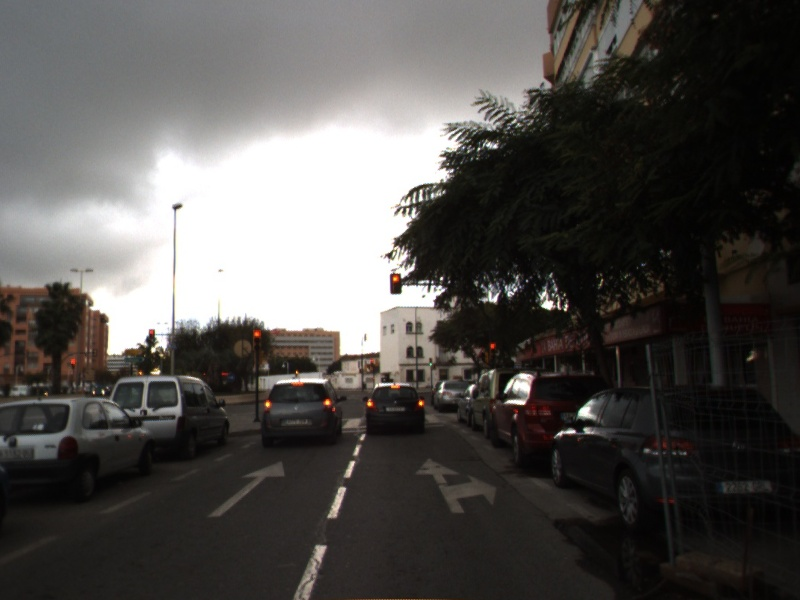STRAIGHT: (206, 459, 286, 518)
STRAIGHT_RIGHT: (413, 457, 498, 515)
